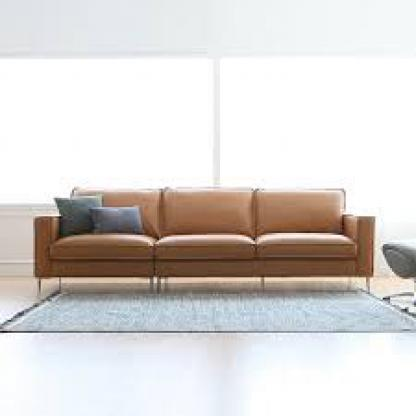sofa: (28, 185, 377, 299)
